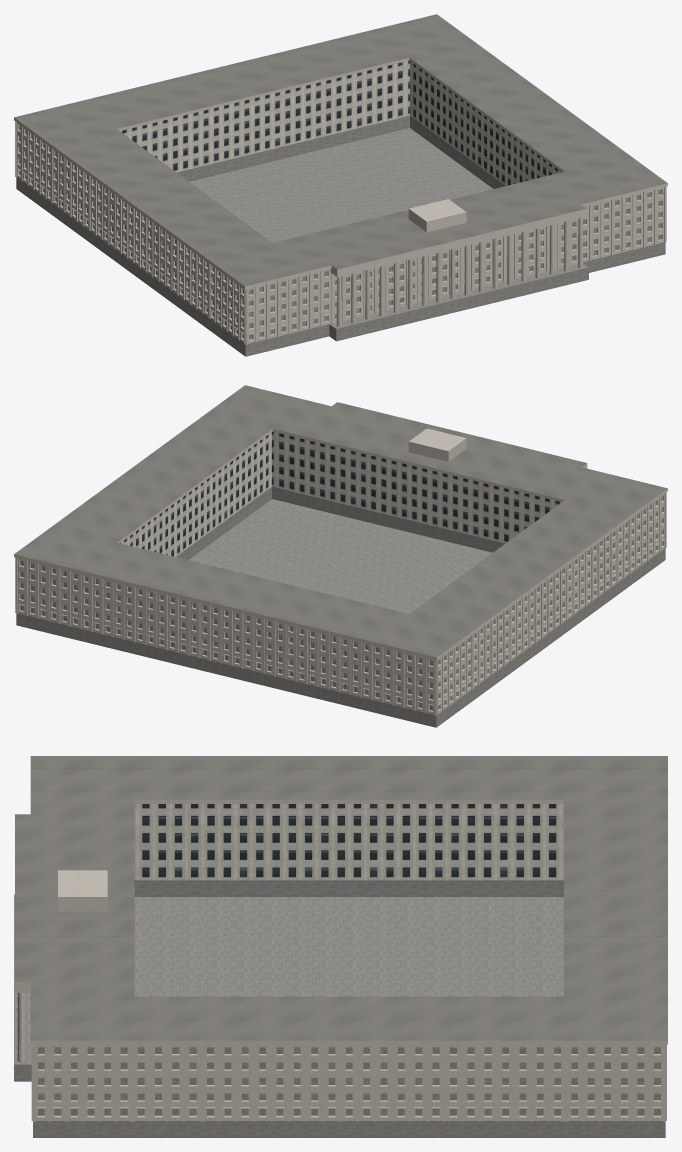
Rendered from russell_senate.glb.
3 views of the same model, one above another, from view 1: azimuth 30°, elevation 25°; view 2: azimuth 150°, elevation 25°; view 3: azimuth 270°, elevation 25° (orthographic). The views are drawn at different scales.
Visible parts, largest first — view 1: russell_senate; view 2: russell_senate; view 3: russell_senate.
Part boxes in pixels (x1,y1,x2,y2): russell_senate: (14,14,667,356); russell_senate: (14,385,667,727); russell_senate: (14,756,667,1137).
Bounding box in the file's own units: 149 × 27.59 × 145.
Materials: 4 (4 with a texture image).
